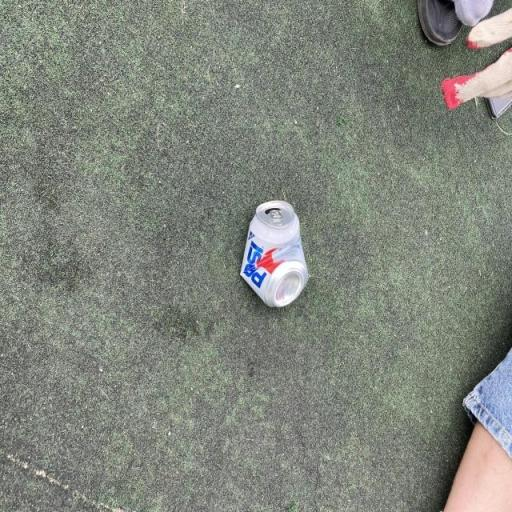metal: (217, 152, 331, 336)
